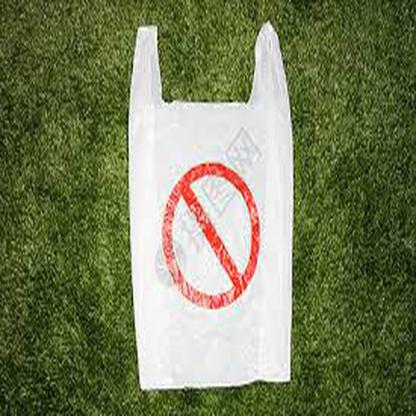plastic bag: (128, 20, 294, 389)
